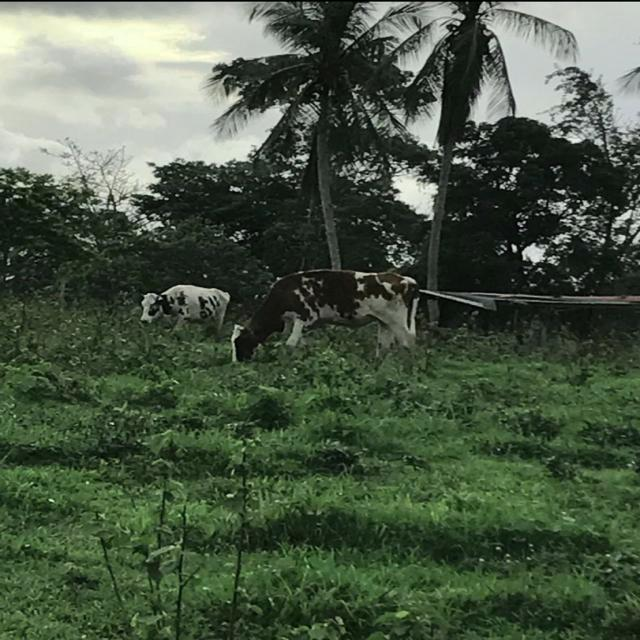cow: (231, 270, 418, 361)
